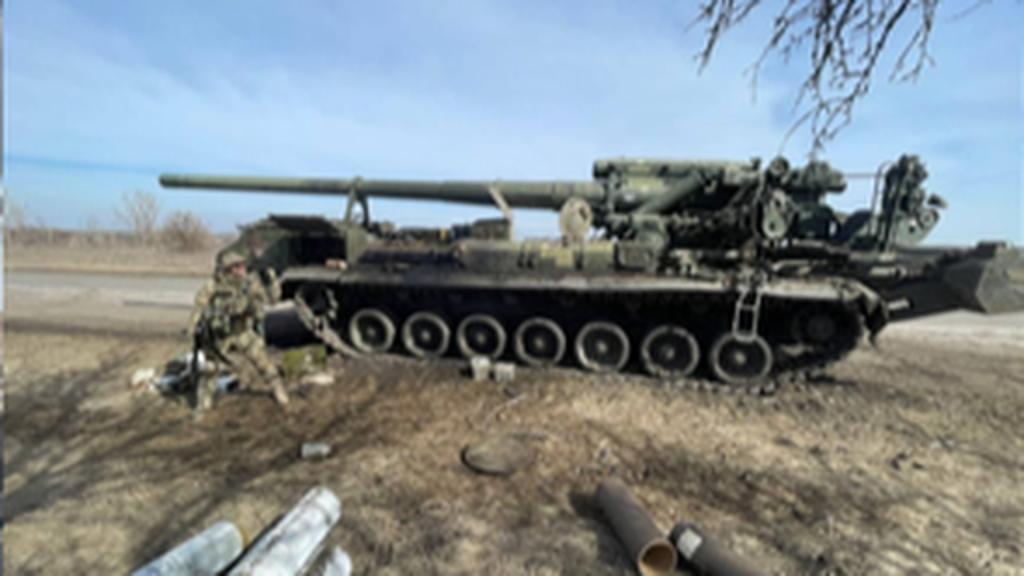ART: (150, 142, 932, 386)
